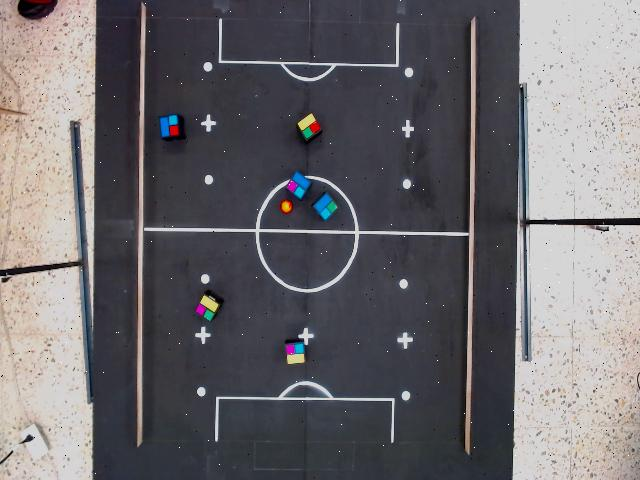robot: (311, 191, 341, 223), (295, 110, 324, 143), (284, 170, 312, 201), (194, 293, 220, 324), (282, 340, 309, 366), (158, 113, 182, 140)
